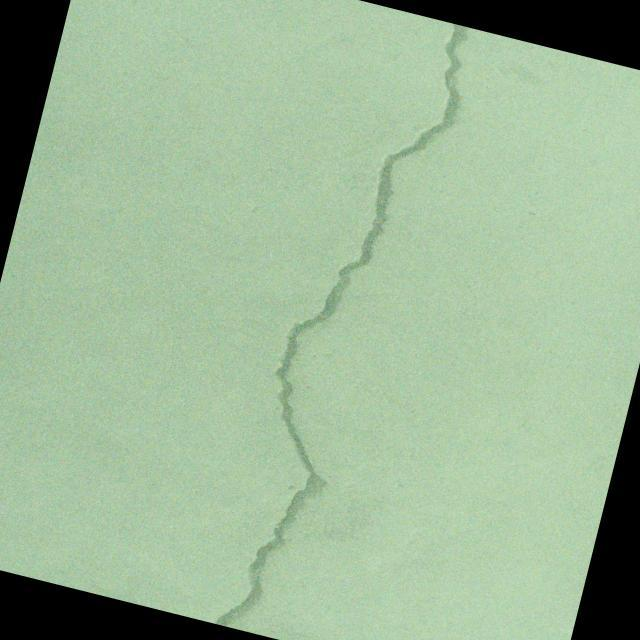crack: (211, 1, 481, 640)
